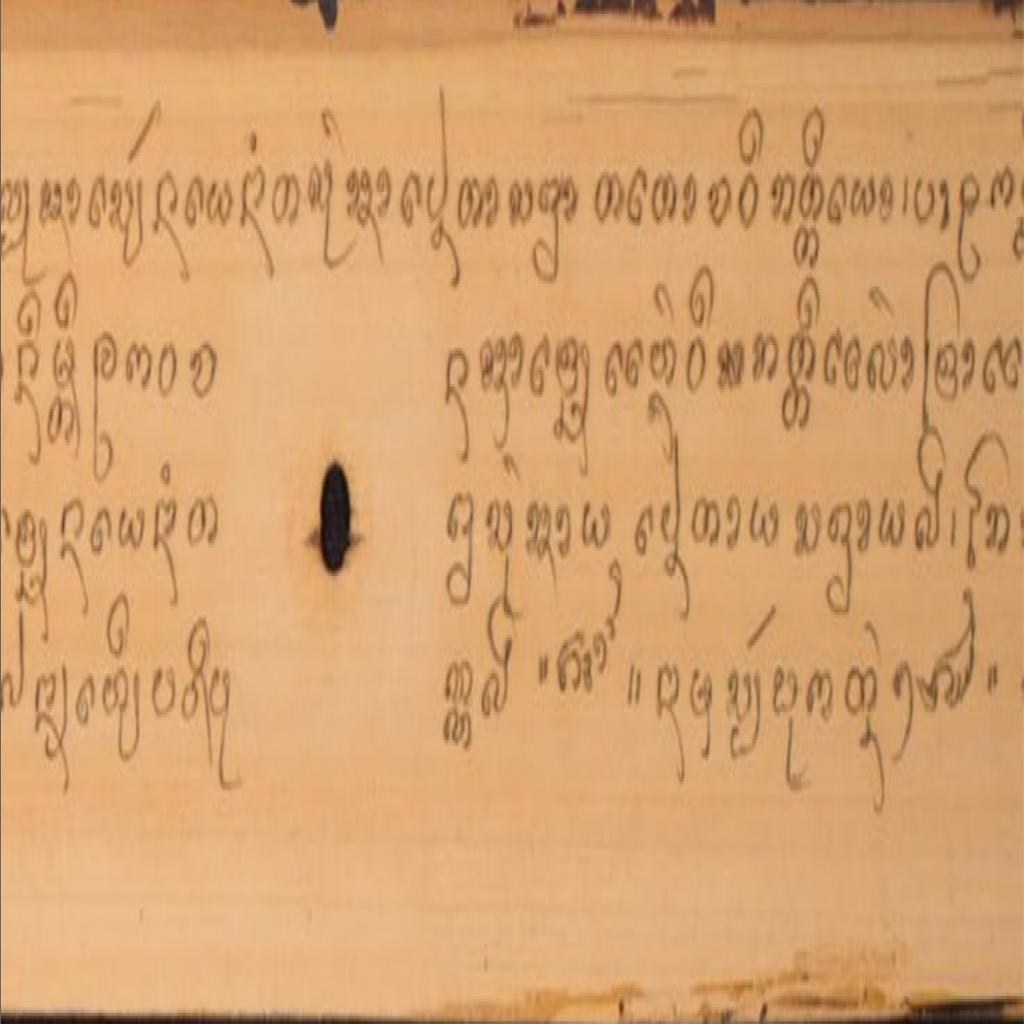LN006: (187, 335, 221, 410)
